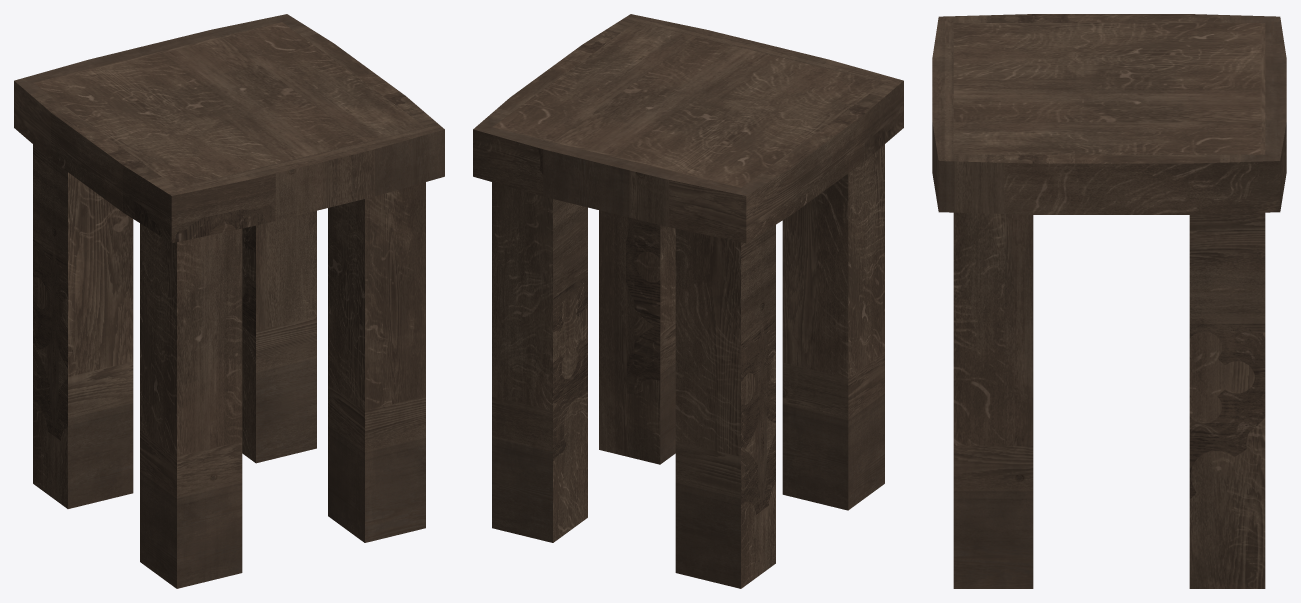
The model's file is Banqueta.fbx.
3 views of the same model, side by side, from view 1: azimuth 30°, elevation 25°; view 2: azimuth 150°, elevation 25°; view 3: azimuth 270°, elevation 25° (orthographic). The views are drawn at different scales.
Visible parts, largest first — view 1: Cube.017, Cube.022, Cube.025, Cube.024; view 2: Cube.017, Cube.022, Cube.025, Cube.024; view 3: Cube.017, Cube.022, Cube.025, Cube.024.
Boxes of the visible parts, x1,y1,x2,y2 form: Cube.017: [33, 144, 425, 588]; Cube.022: [33, 22, 425, 187]; Cube.025: [14, 81, 444, 243]; Cube.024: [14, 14, 444, 195]; Cube.017: [492, 144, 884, 588]; Cube.022: [492, 22, 884, 187]; Cube.025: [473, 81, 903, 243]; Cube.024: [473, 14, 903, 195]; Cube.017: [953, 212, 1265, 588]; Cube.022: [953, 23, 1265, 154]; Cube.025: [932, 122, 1286, 214]; Cube.024: [932, 14, 1286, 163].
Bounding box in the file's own units: 41.65 × 56.38 × 41.65.
